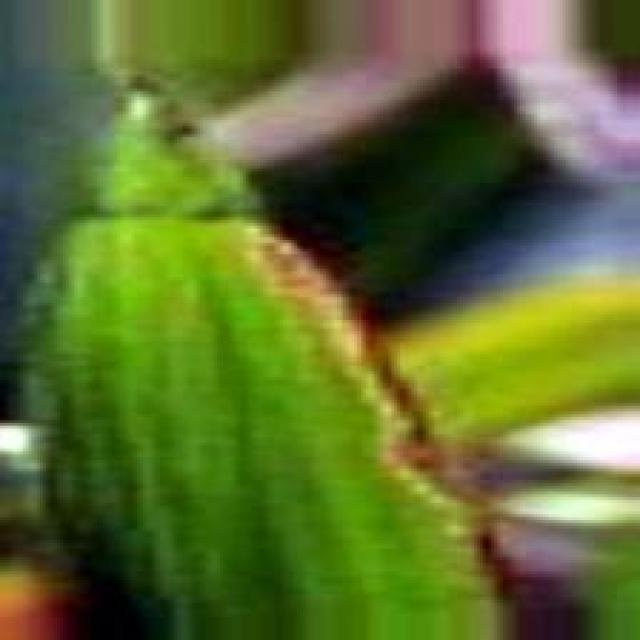Unhealthy: (243, 224, 480, 513)
